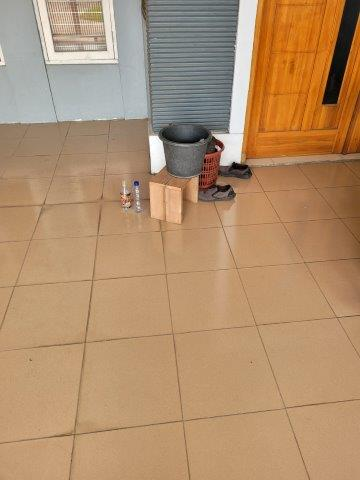botolplastik: (120, 181, 133, 211), (134, 183, 140, 214)
